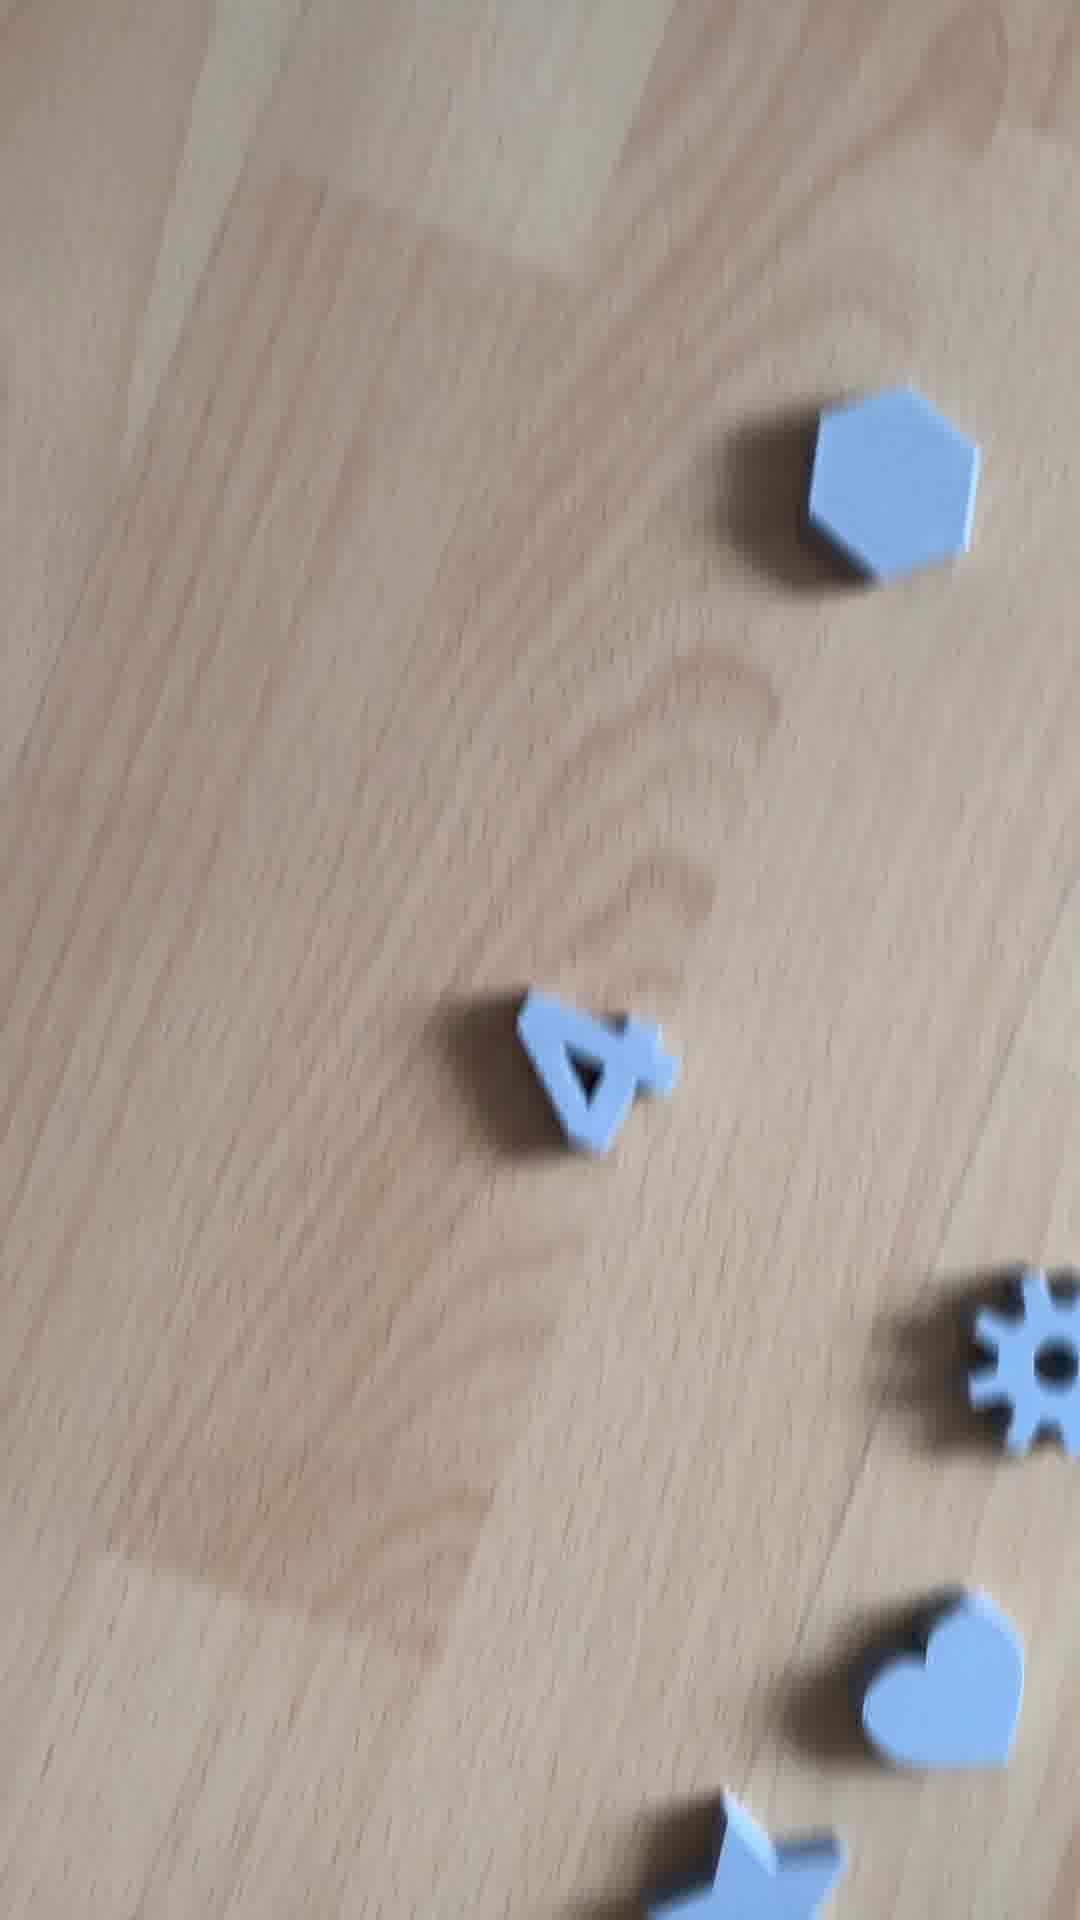Gray four: (508, 948, 683, 1175)
Gray gear: (947, 1269, 1080, 1472)
Gray heart: (843, 1600, 1036, 1782)
Gray hexagon: (770, 385, 1002, 587)
Gray star: (607, 1795, 849, 1920)
